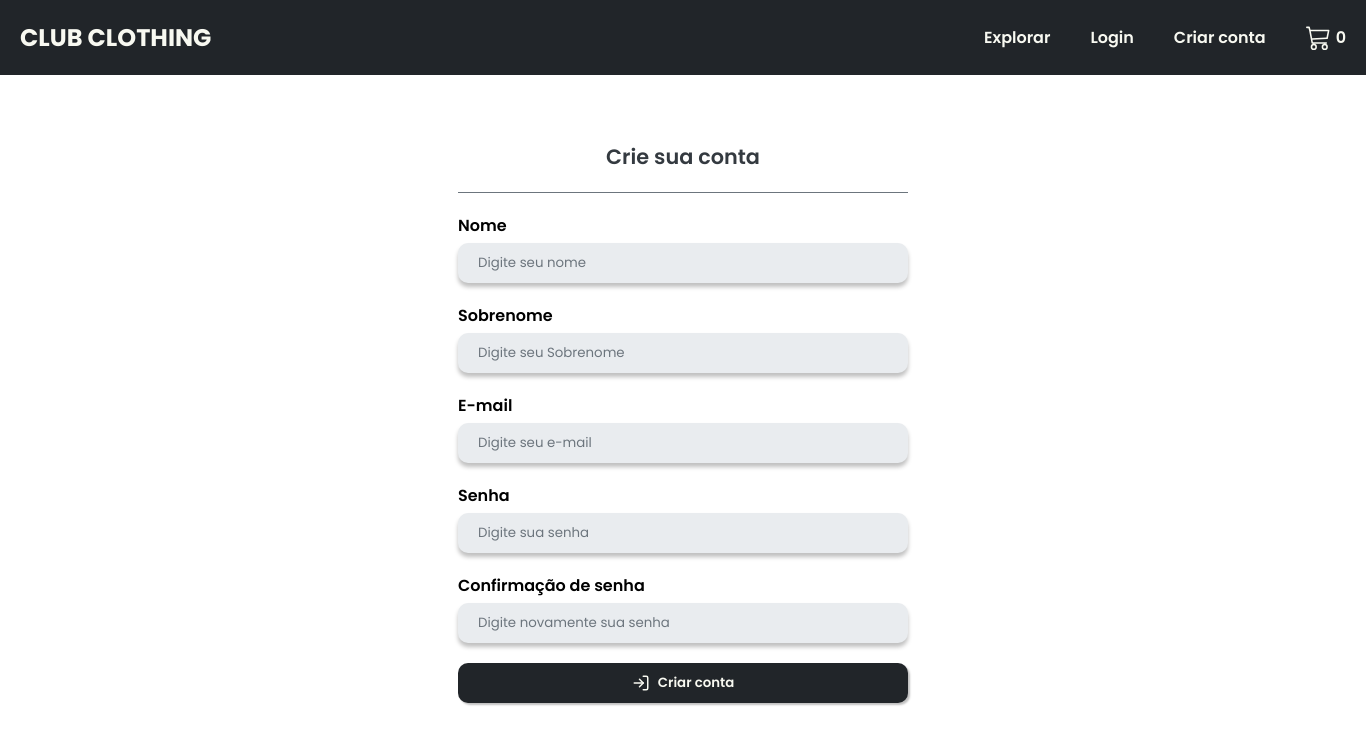
Test: Sign Up › should show error when trying to submit whitout filling all required fields
Click the button "Criar conta". click: {"x": 683, "y": 682}
box: [458, 662, 908, 702]
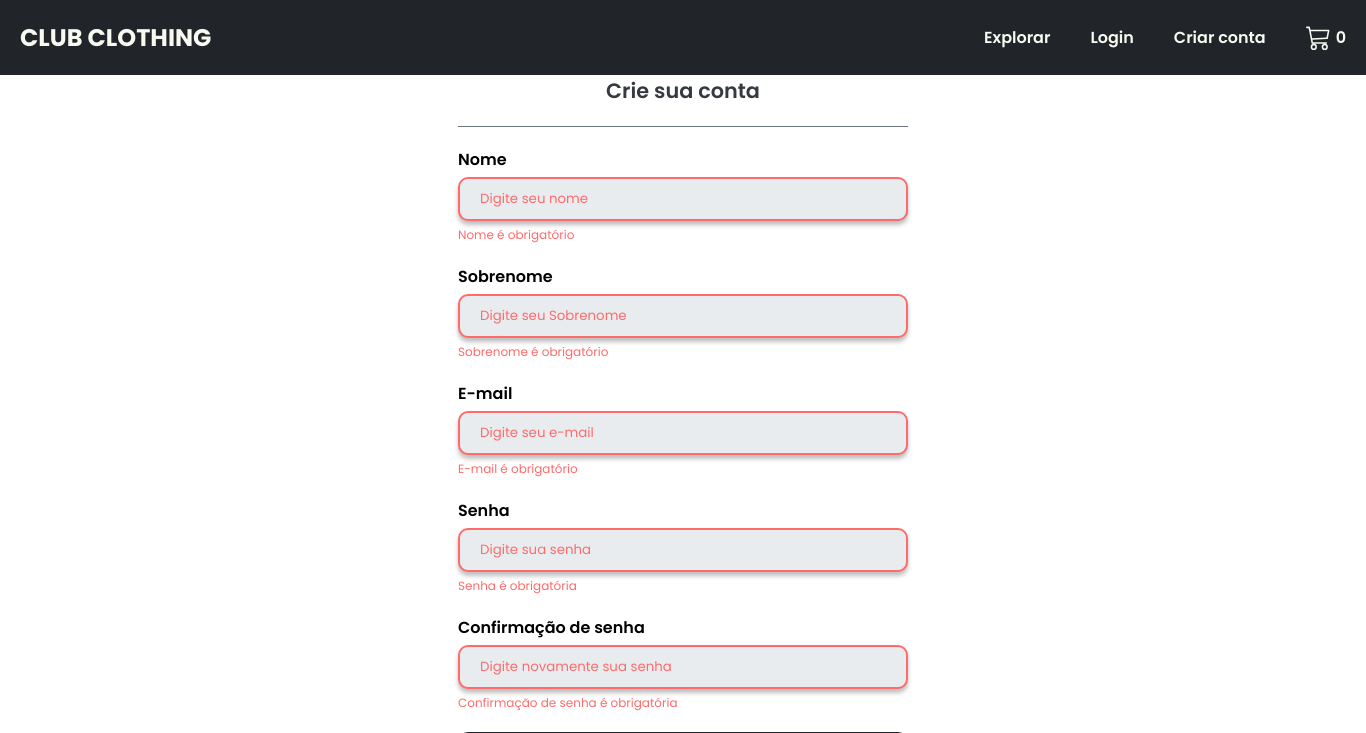
Check: the text "Nome é obrigatório" is shown, box [458, 226, 574, 243]
Check: the text "Sobrenome é obrigatório" is shown, box [458, 343, 608, 360]
Check: the text "E-mail é obrigatório" is shown, box [458, 460, 578, 477]
